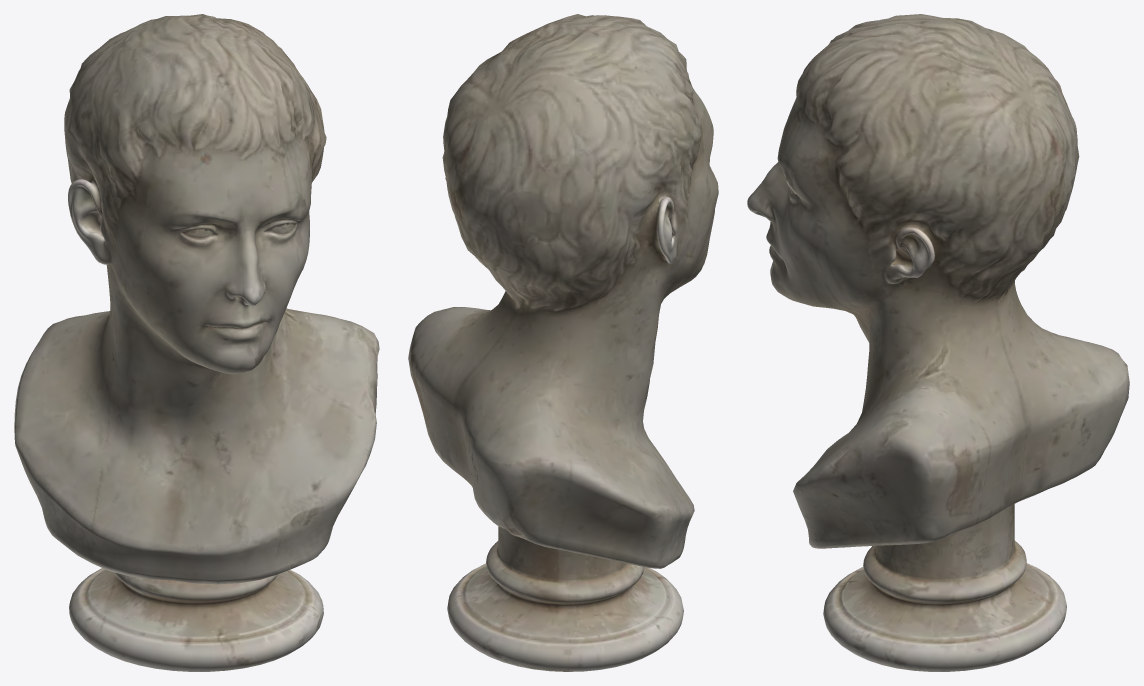
The model's file is marble_bust_01.glb.
3 views of the same model, side by side, from view 1: azimuth 30°, elevation 25°; view 2: azimuth 150°, elevation 25°; view 3: azimuth 270°, elevation 25° (orthographic). The views are drawn at different scales.
Visible parts, largest first — view 1: marble_bust_01; view 2: marble_bust_01; view 3: marble_bust_01.
Part boxes in pixels (x1=…): marble_bust_01: x1=14, y1=14, x2=379, y2=671; marble_bust_01: x1=408, y1=14, x2=718, y2=671; marble_bust_01: x1=747, y1=14, x2=1129, y2=671.
Bounding box in the file's own units: 0.2718 × 0.5149 × 0.2997.
1 material, 1 textured.
